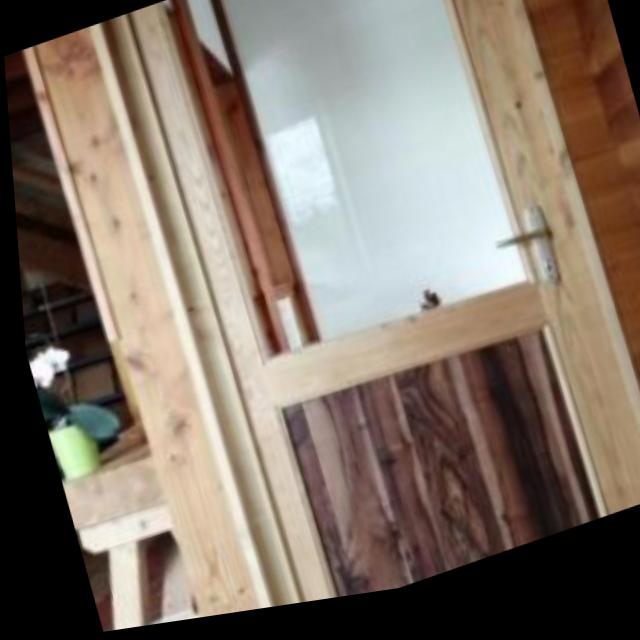door_handle: (472, 221, 558, 277)
